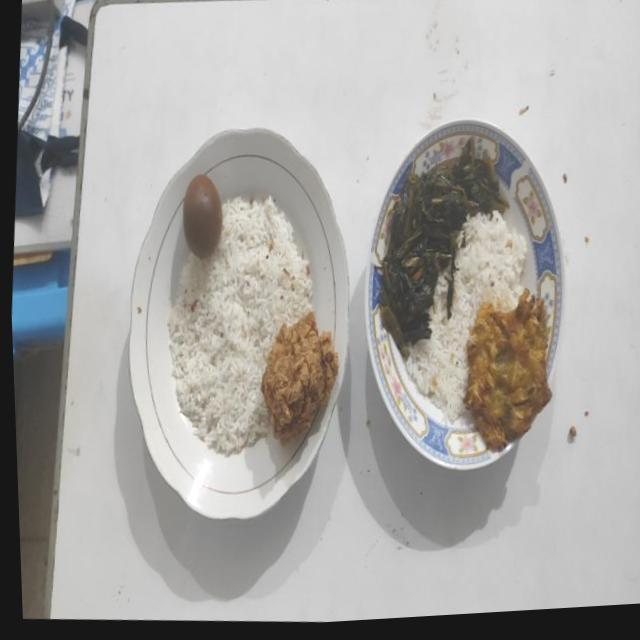nasi_putih: (167, 199, 312, 455), (406, 212, 526, 423)
tumis_kangkung: (379, 138, 508, 358)
